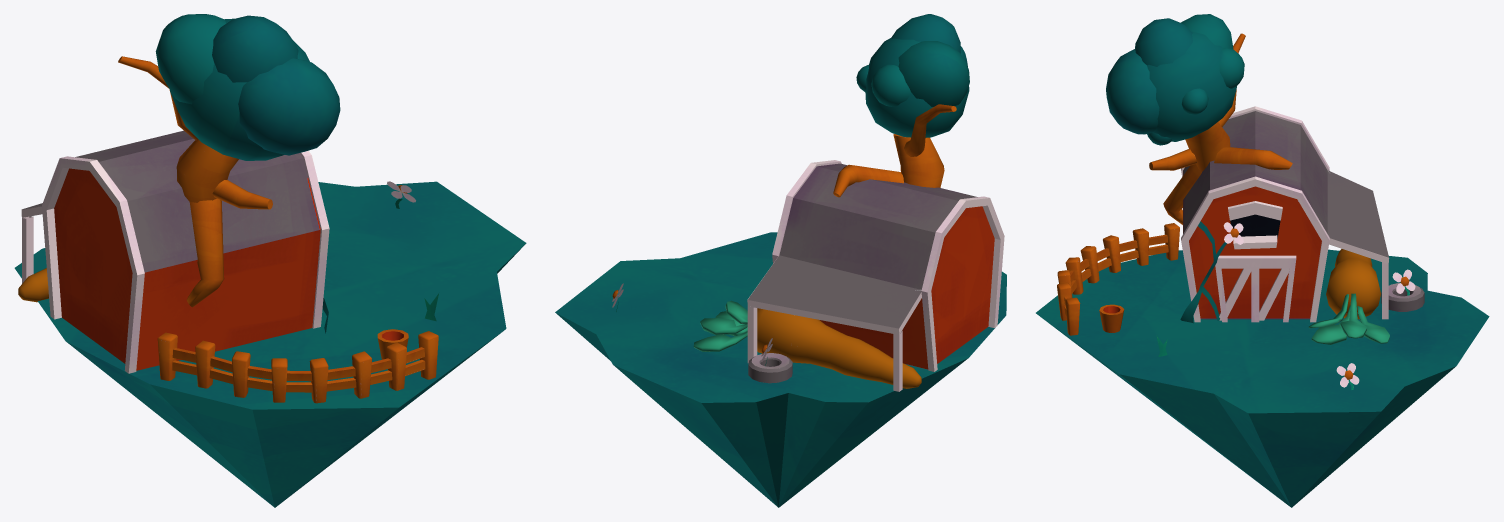
File: islaCarlos 1.fbx
3 renders of one model, left to right at view 1: azimuth 30°, elevation 25°; view 2: azimuth 150°, elevation 25°; view 3: azimuth 270°, elevation 25°, orthographic. The views are drawn at different scales.
Visible parts, largest first — view 1: MainIsland.004, Cube.031, Sphere, Cube.029, Cube.024, Cylinder.009; view 2: MainIsland.004, Cube.031, Sphere, Cylinder.009, Cube.024, Cylinder.006; view 3: MainIsland.004, Cube.031, Sphere, Cylinder.009, Cube.029, Cube.024, Plane.002, Cylinder.006, Cylinder.014.
Part boxes in pixels (bbox=[...]): MainIsland.004: bbox=[14, 181, 526, 507]; Cube.031: bbox=[21, 130, 329, 373]; Sphere: bbox=[155, 14, 340, 160]; Cube.029: bbox=[157, 331, 438, 403]; Cube.024: bbox=[118, 56, 272, 307]; Cylinder.009: bbox=[18, 268, 48, 302]; MainIsland.004: bbox=[555, 232, 1006, 507]; Cube.031: bbox=[747, 160, 1004, 391]; Sphere: bbox=[856, 14, 969, 137]; Cylinder.009: bbox=[693, 300, 921, 388]; Cube.024: bbox=[833, 104, 956, 197]; Cylinder.006: bbox=[748, 353, 792, 383]; MainIsland.004: bbox=[1036, 249, 1489, 507]; Cube.031: bbox=[1181, 106, 1389, 322]; Sphere: bbox=[1106, 14, 1244, 145]; Cylinder.009: bbox=[1308, 249, 1389, 344]; Cube.029: bbox=[1057, 223, 1179, 335]; Cube.024: bbox=[1149, 33, 1292, 224]; Plane.002: bbox=[1180, 221, 1243, 323]; Cylinder.006: bbox=[1381, 283, 1424, 311]; Cylinder.014: bbox=[1099, 304, 1124, 332].
Size of the model in its own units: 2227 by 2737 by 2521.
4 materials, 4 textured.
